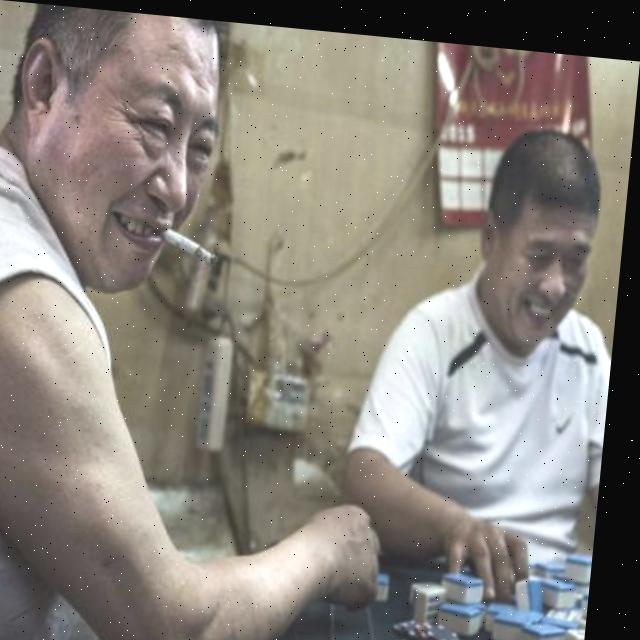cigarette: (166, 226, 225, 263)
